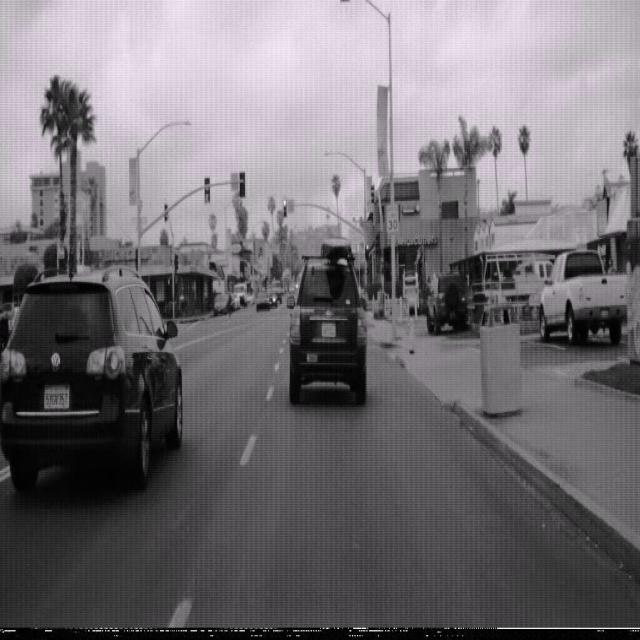speedLimit30: (385, 201, 399, 234)
